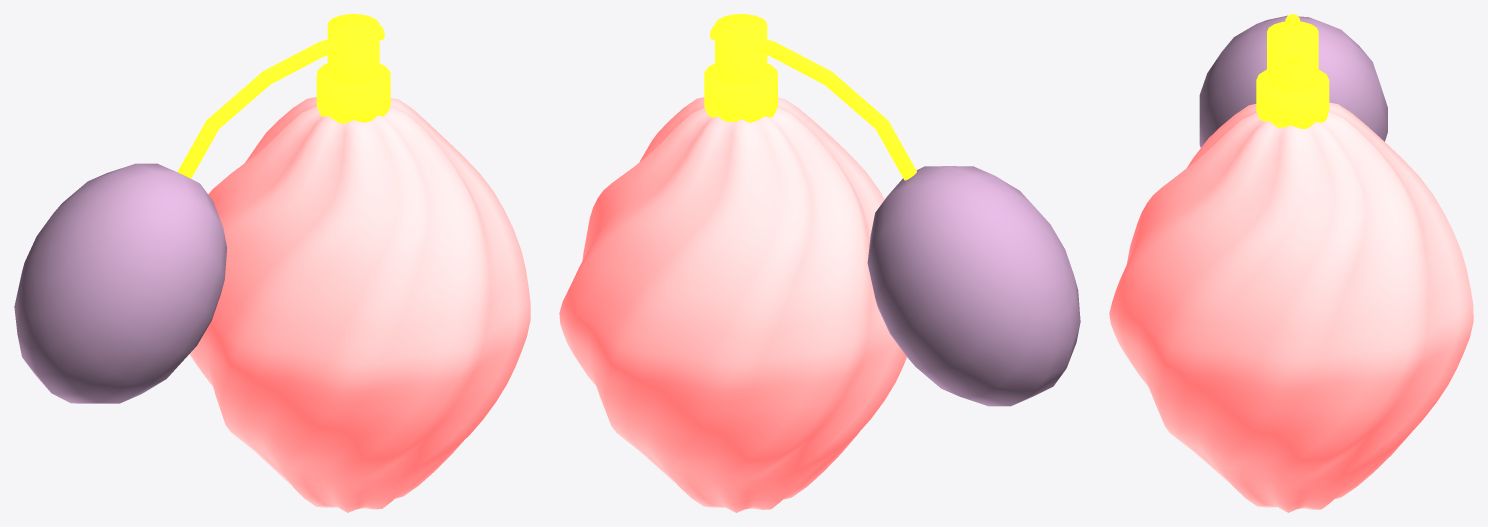
Rendered from frasco-atomizador.glb.
3 renders of one model, left to right at view 1: azimuth 30°, elevation 25°; view 2: azimuth 150°, elevation 25°; view 3: azimuth 270°, elevation 25°, orthographic.
Parts seen in each view (by area): view 1: Circle.001, Circle; view 2: Circle.001, Circle; view 3: Circle.001, Circle.
Boxes of the visible parts, x1,y1,x2,y2 form: Circle.001: (189, 97, 530, 512); Circle: (14, 14, 390, 403); Circle.001: (559, 97, 906, 512); Circle: (704, 14, 1080, 406); Circle.001: (1109, 102, 1473, 512); Circle: (1199, 14, 1387, 147).
Size of the model in its own units: 0.138 by 0.13 by 0.0917.
